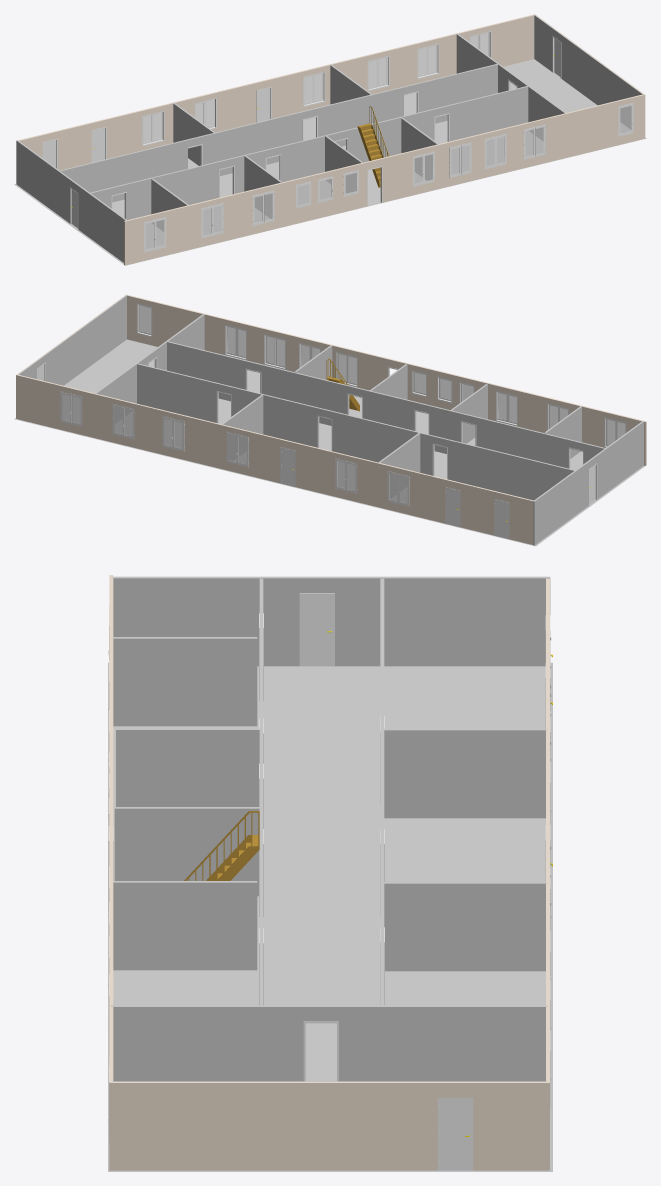
The model's file is orphanage.dae.
3 renders of one model, top to bottom at view 1: azimuth 30°, elevation 25°; view 2: azimuth 150°, elevation 25°; view 3: azimuth 270°, elevation 25°, orthographic. The views are drawn at different scales.
Visible parts, largest first — view 1: wall_1_5, wall_3_16, wall_9_53, wall_5_29, room_28_80, wall_4_22, wall_2_10, wall_22_71, wall_7_40, wall_6_35, wall_10_59, wall_27_77 (+13 smaller); view 2: wall_3_17, wall_9_52, wall_5_28, wall_1_4, room_28_80, wall_4_22, wall_2_10, wall_22_71, wall_8_47, wall_7_40, ground_1, wall_10_59 (+14 smaller); view 3: room_28_80, wall_2_11, wall_4_23, wall_22_70, wall_7_41, wall_8_46, wall_21_64, wall_6_34, wall_10_58, wall_27_76, ground_1, Porte_350 (+12 smaller).
Boxes of the visible parts, left/top/right/bottom form: wall_1_5: left=124, top=95, right=645, bottom=265; wall_3_16: left=20, top=15, right=534, bottom=170; wall_9_53: left=61, top=64, right=497, bottom=202; wall_5_29: left=91, top=87, right=528, bottom=219; room_28_80: left=112, top=59, right=631, bottom=248; wall_4_22: left=16, top=141, right=125, bottom=262; wall_2_10: left=534, top=15, right=642, bottom=129; wall_22_71: left=456, top=34, right=564, bottom=140; wall_7_40: left=173, top=103, right=213, bottom=165; wall_6_35: left=401, top=118, right=436, bottom=180; wall_10_59: left=244, top=156, right=280, bottom=218; wall_27_77: left=325, top=136, right=361, bottom=193; wall_3_17: left=16, top=375, right=532, bottom=544; wall_9_52: left=137, top=364, right=573, bottom=500; wall_5_28: left=167, top=342, right=604, bottom=468; wall_1_4: left=127, top=295, right=646, bottom=465; room_28_80: left=16, top=339, right=582, bottom=502; wall_4_22: left=533, top=422, right=643, bottom=545; wall_2_10: left=19, top=296, right=126, bottom=385; wall_22_71: left=97, top=315, right=204, bottom=423; wall_8_47: left=223, top=395, right=263, bottom=460; wall_7_40: left=380, top=433, right=420, bottom=498; ground_1: left=14, top=418, right=644, bottom=546; wall_10_59: left=452, top=384, right=487, bottom=443; room_28_80: left=111, top=666, right=551, bottom=1171; wall_2_11: left=109, top=1083, right=549, bottom=1170; wall_4_23: left=113, top=578, right=550, bottom=666; wall_22_70: left=113, top=1007, right=545, bottom=1081; wall_7_41: left=384, top=730, right=545, bottom=818; wall_8_46: left=384, top=883, right=545, bottom=971; wall_21_64: left=113, top=638, right=257, bottom=726; wall_6_34: left=113, top=882, right=257, bottom=970; wall_10_58: left=116, top=730, right=259, bottom=806; wall_27_76: left=114, top=808, right=259, bottom=896; ground_1: left=108, top=662, right=552, bottom=1171; Porte_350: left=301, top=594, right=333, bottom=666.
Size of the model in its own units: 63.02 by 23.28 by 7.33.
